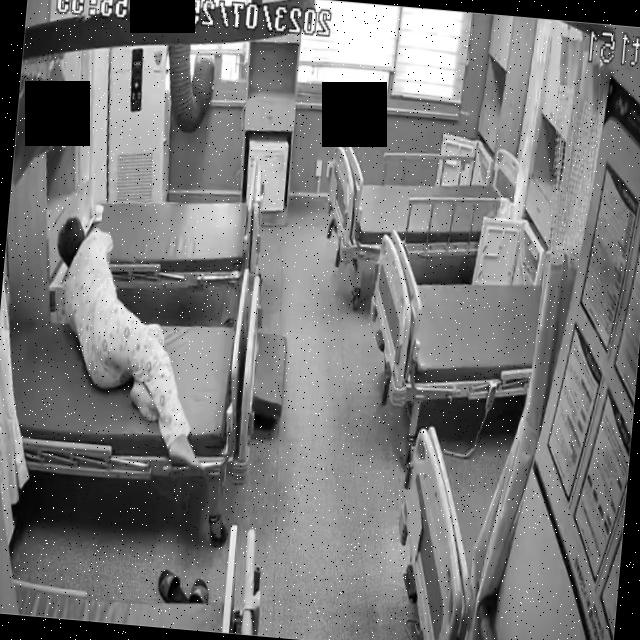bed: (0, 299, 242, 493), (358, 227, 546, 418), (325, 134, 520, 271), (72, 162, 264, 298)
danger: (36, 214, 232, 477)
patient: (37, 214, 231, 475)
